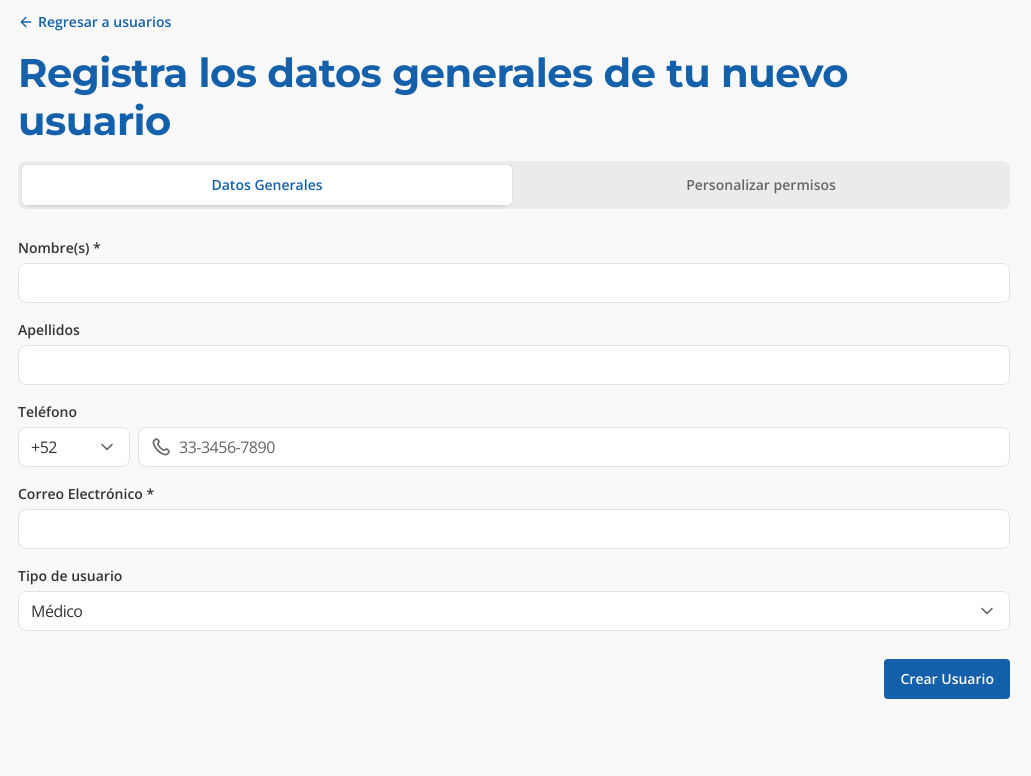
NewUserPage › explains a refusal from the API
This screenshot has width=1031, height=776.
Type "Juan" into the field labelled "Nombre(s) *". click: {"x": 514, "y": 283}
box: [31,264,997,302]
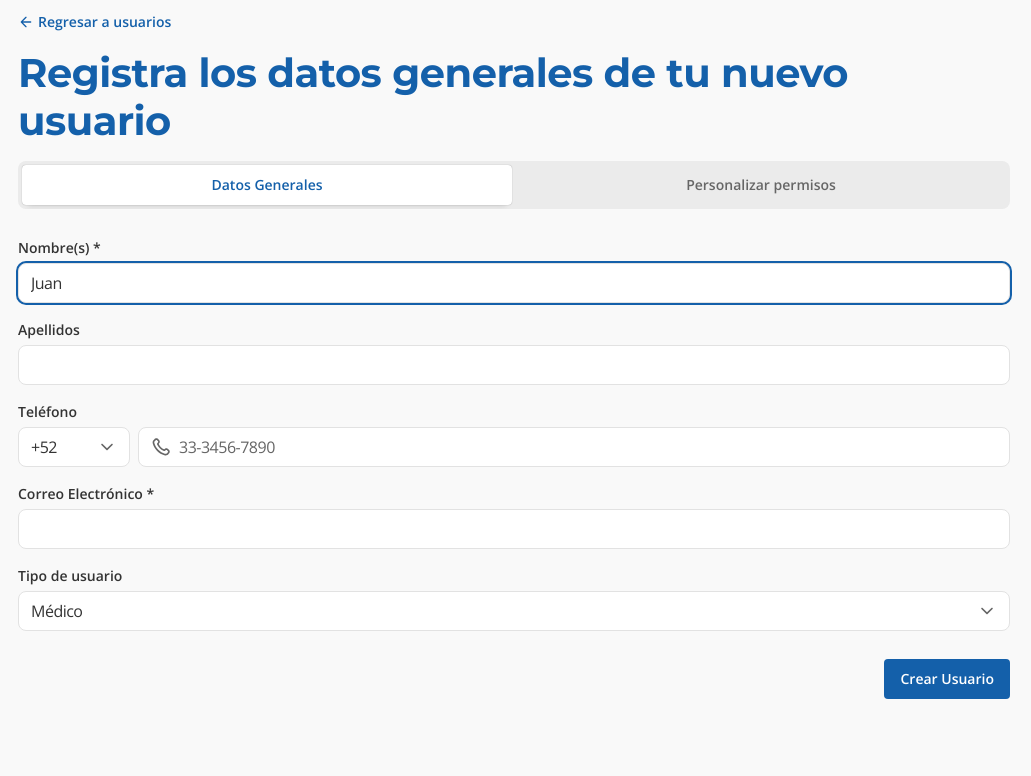
Type "juan@example.com" into the field labelled "Correo Electrónico *". click: {"x": 514, "y": 529}
box: [31,510,997,548]
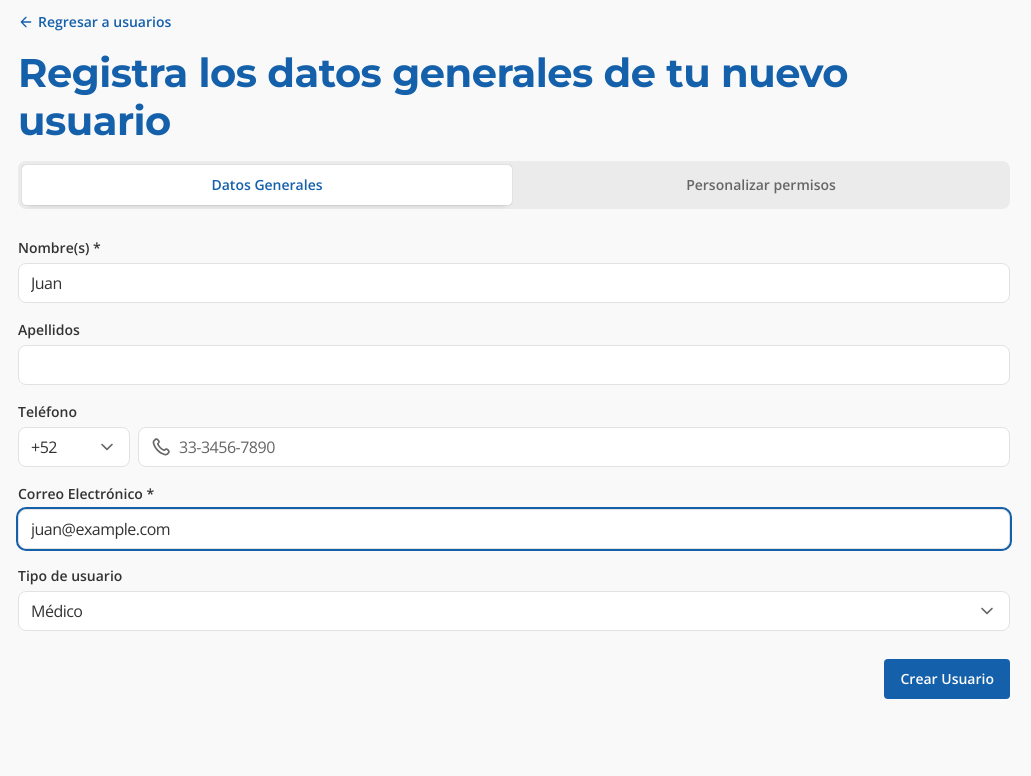
Click the button "Crear Usuario". click: {"x": 947, "y": 679}
box: [884,659,1010,699]
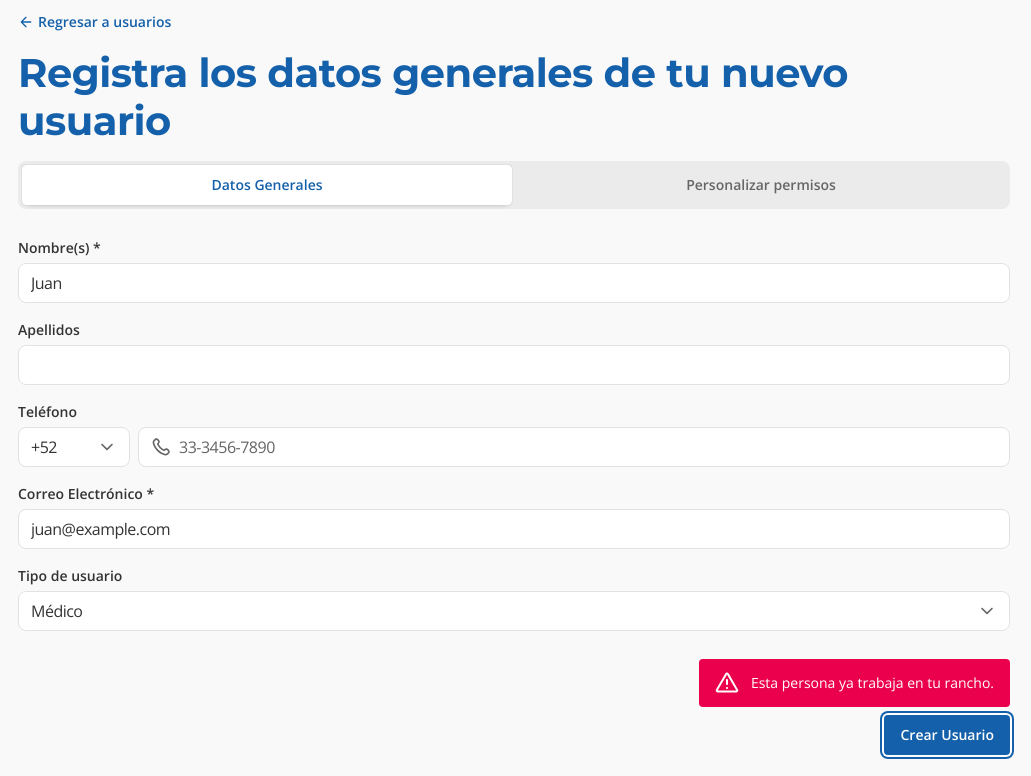
Result: the text "Esta persona ya trabaja en tu rancho." is shown at [751,672,994,694]
